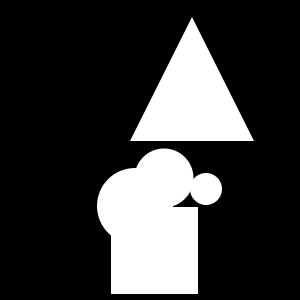circle: (111, 207, 198, 294)
rectangle: (97, 168, 173, 244), (134, 149, 194, 208), (190, 173, 222, 205)
triangle: (130, 17, 254, 141)
